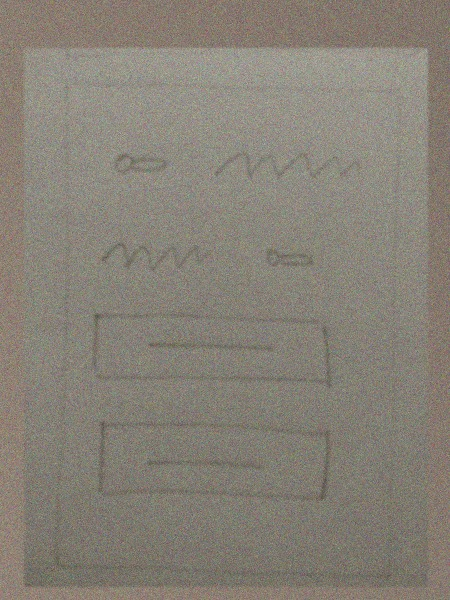button: (89, 414, 342, 513), (82, 303, 341, 398)
switch: (102, 141, 175, 186), (252, 238, 324, 281)
text: (200, 141, 369, 185), (96, 232, 216, 276)
